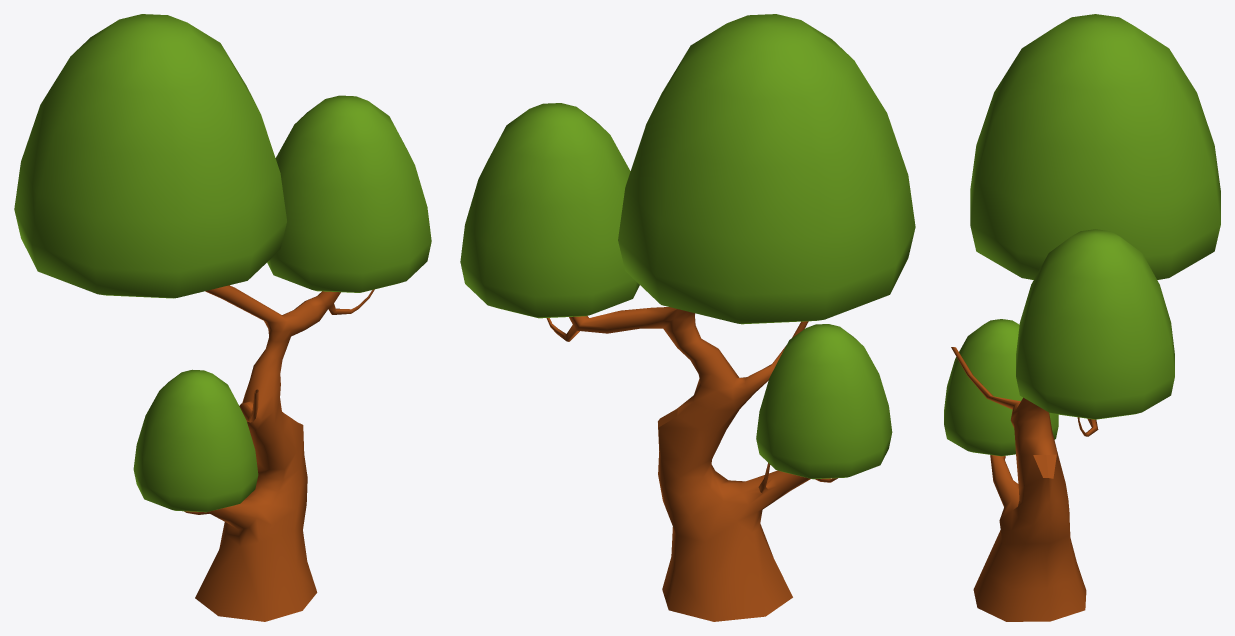
Rendered from SM_Tree_42.fbx.
The picture shows the model from 3 angles, left to right: view 1: azimuth 30°, elevation 25°; view 2: azimuth 150°, elevation 25°; view 3: azimuth 270°, elevation 25°; orthographic projection. The views are drawn at different scales.
Visible parts, largest first — view 1: SM_Tree_42; view 2: SM_Tree_42; view 3: SM_Tree_42.
Part boxes in pixels (bbox=[...]): SM_Tree_42: bbox=[14, 14, 431, 621]; SM_Tree_42: bbox=[460, 14, 915, 621]; SM_Tree_42: bbox=[944, 14, 1220, 621].
Size of the model in its own units: 906 by 1255 by 581.
